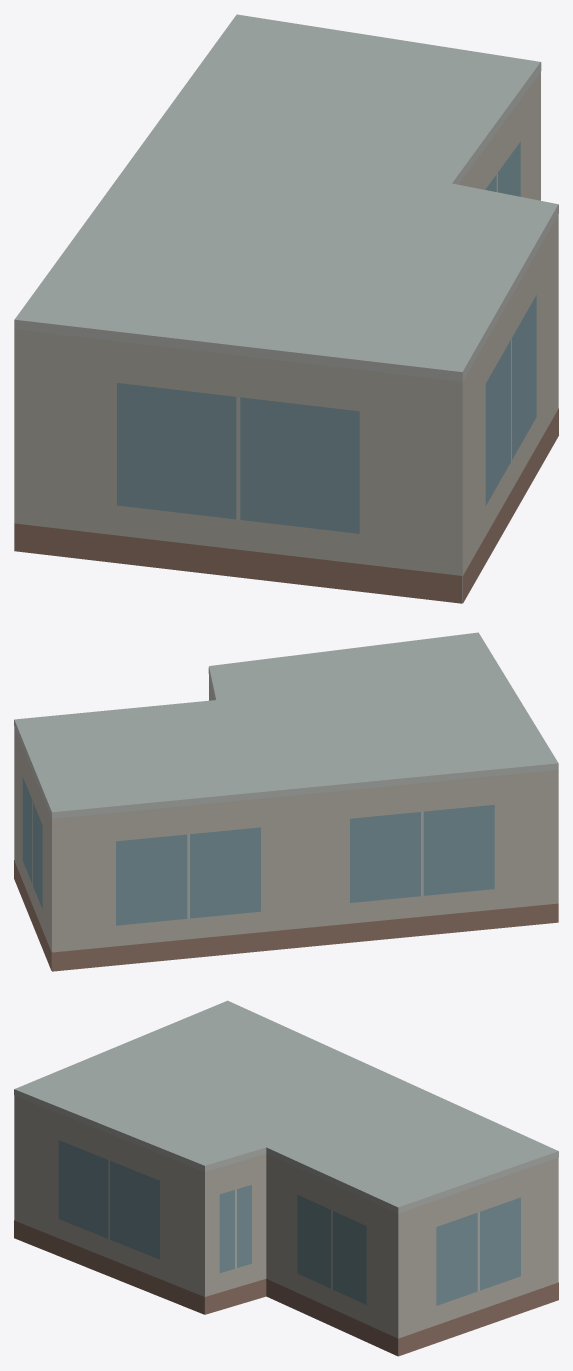
Rendered from survey-upis-32632524.glb.
The picture shows the model from 3 angles, top to bottom: view 1: azimuth 30°, elevation 25°; view 2: azimuth 150°, elevation 25°; view 3: azimuth 270°, elevation 25°; orthographic projection. The views are drawn at different scales.
Parts seen in each view (by area): view 1: survey-upis-32632524.tmp; view 2: survey-upis-32632524.tmp; view 3: survey-upis-32632524.tmp.
Boxes of the visible parts, box(x1,y1,x2,y2) form: survey-upis-32632524.tmp: box(14, 14, 558, 603); survey-upis-32632524.tmp: box(14, 632, 558, 971); survey-upis-32632524.tmp: box(14, 1000, 558, 1356).
Bounding box in the file's own units: 9.1 × 3.05 × 10.12.
